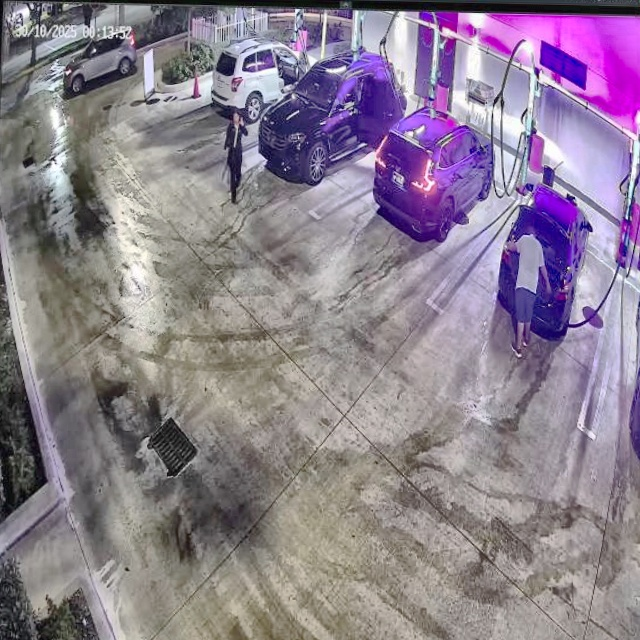Car: (256, 51, 407, 183), (372, 103, 498, 235)
